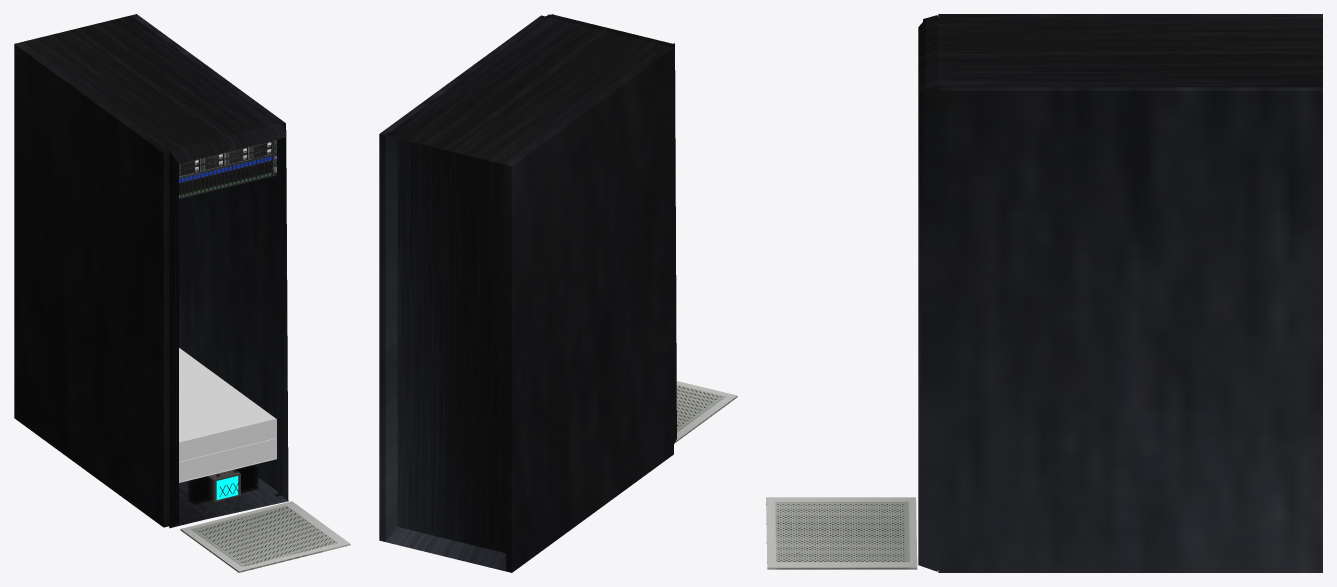
Rendered from ServerRack 1.fbx.
The picture shows the model from 3 angles, left to right: view 1: azimuth 30°, elevation 25°; view 2: azimuth 150°, elevation 25°; view 3: azimuth 270°, elevation 25°; orthographic projection. The views are drawn at different scales.
Visible parts, largest first — view 1: Server_Rack.004, Server_Rack.005, Server_Rack.001, Server_Rack.002, Server_Rack.003, Server_Rack.007, Server_Rack.008, Server_Rack.009; view 2: Server_Rack.004, Server_Rack.001; view 3: Server_Rack.004, Server_Rack.001.
Boxes of the visible parts, box(x1,y1,x2,y2) form: Server_Rack.004: box(14, 14, 288, 528); Server_Rack.005: box(179, 348, 276, 482); Server_Rack.001: box(180, 501, 350, 572); Server_Rack.002: box(179, 154, 276, 199); Server_Rack.003: box(179, 140, 276, 177); Server_Rack.007: box(188, 465, 258, 504); Server_Rack.008: box(204, 470, 240, 502); Server_Rack.009: box(216, 476, 238, 499); Server_Rack.004: box(379, 14, 676, 572); Server_Rack.001: box(675, 381, 737, 442); Server_Rack.004: box(918, 14, 1322, 572); Server_Rack.001: box(766, 497, 917, 569).
Bounding box in the file's own units: 60.96 × 180 × 187.
Materials: 10 (4 with a texture image).
